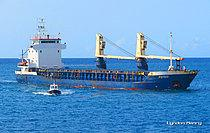Ship: (17, 23, 203, 97)
